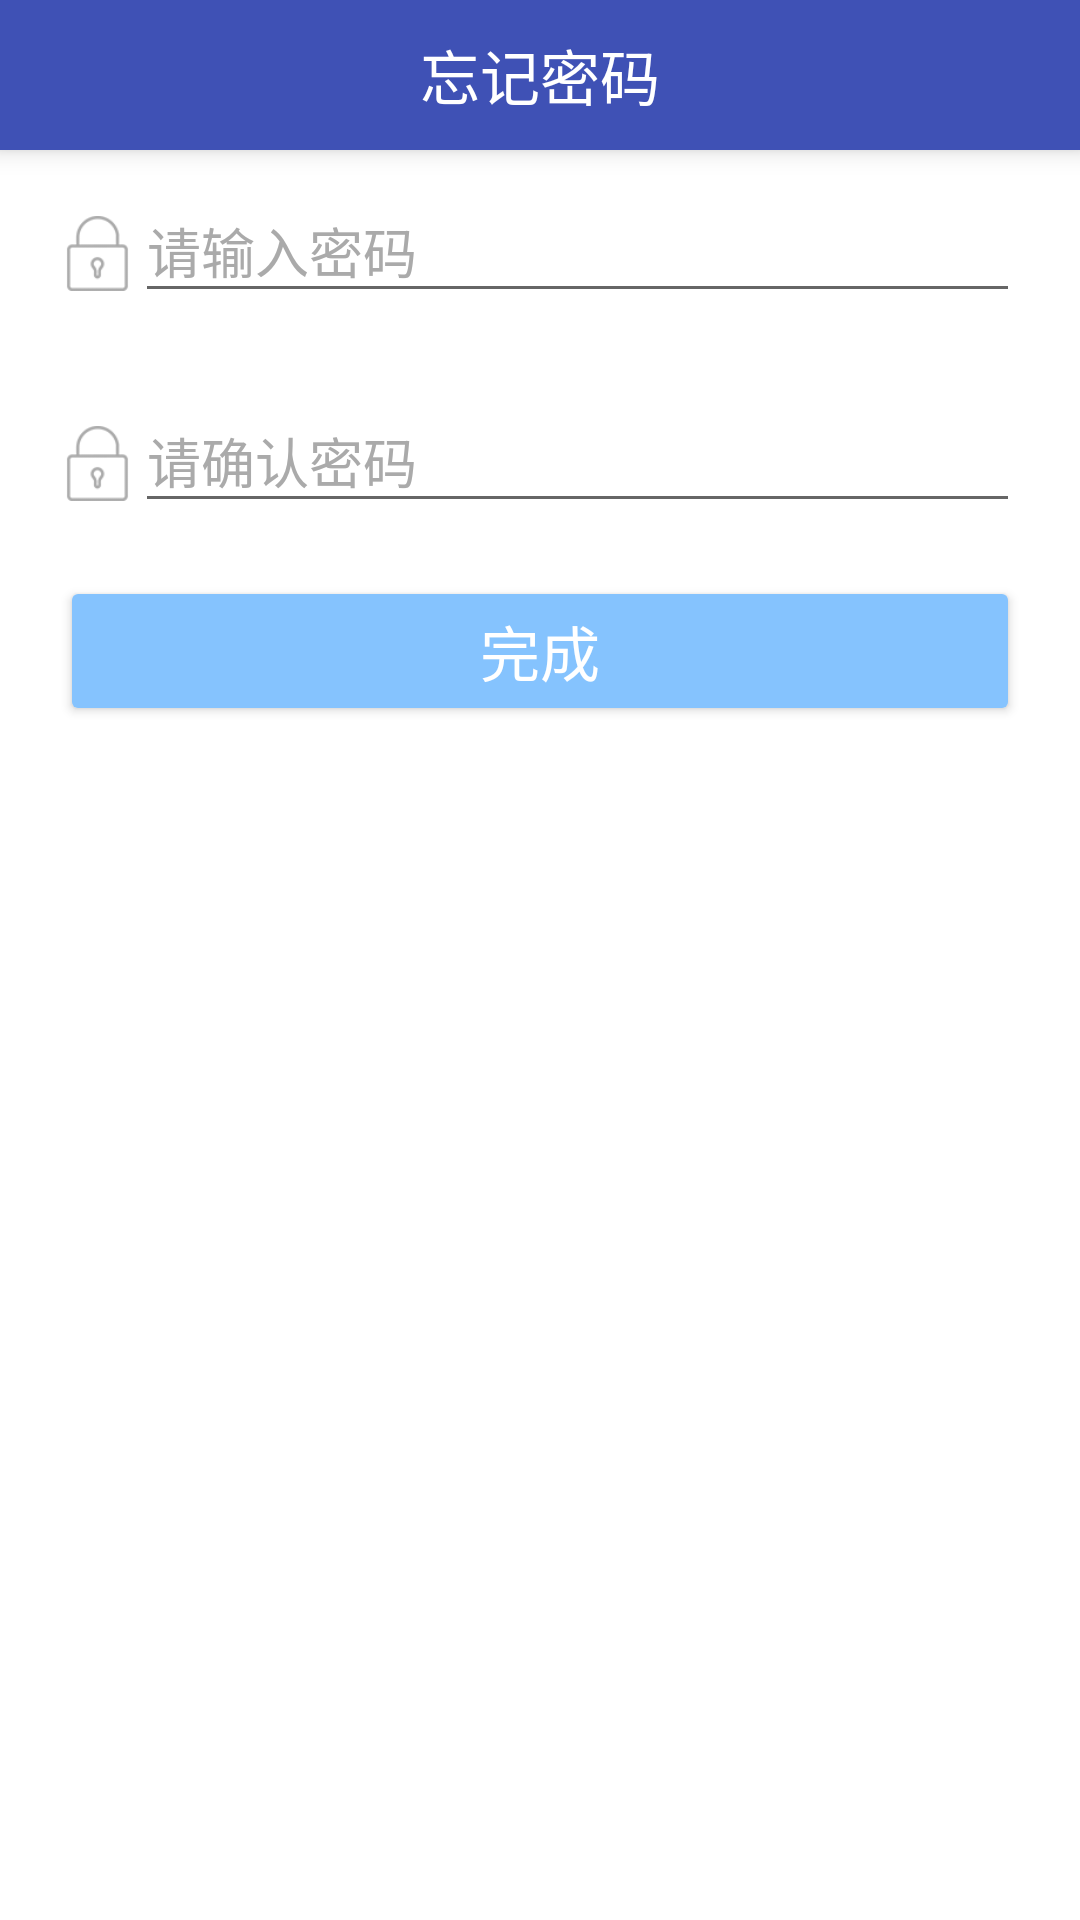

Icon click points for this 1080px×1920px phone screenshot, format (x=x, y=y):
password: (x=97, y=253), (x=97, y=463)
